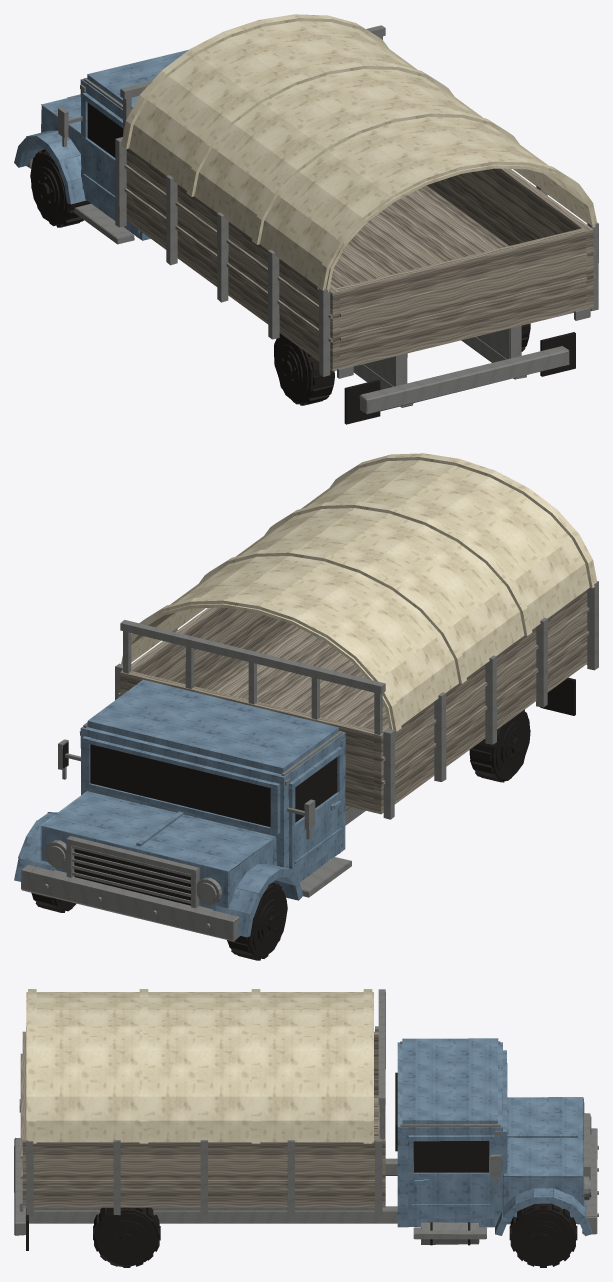
Rendered from prairie_schooner.glb.
3 views of the same model, one above another, from view 1: azimuth 30°, elevation 25°; view 2: azimuth 150°, elevation 25°; view 3: azimuth 270°, elevation 25° (orthographic). The views are drawn at different scales.
Visible parts, largest first — view 1: Cover, PrairieSchooner, Tailgate, Wheel_L2, Door_L, Wheel_L1, Glass_L; view 2: PrairieSchooner, Cover, Door_L, Wheel_L2, Wheel_L1, Glass_L; view 3: PrairieSchooner, Cover, Door_R, Wheel_R1, Wheel_R2, Glass_R, Tailgate.
Part boxes in pixels (left/top/right/bottom): Cover: left=121, top=14, right=597, bottom=292; PrairieSchooner: left=14, top=25, right=598, bottom=424; Tailgate: left=336, top=228, right=586, bottom=362; Wheel_L2: left=274, top=333, right=334, bottom=405; Door_L: left=82, top=92, right=128, bottom=222; Wheel_L1: left=30, top=149, right=90, bottom=227; Glass_L: left=87, top=103, right=122, bottom=157; PrairieSchooner: left=14, top=581, right=598, bottom=941; Cover: left=121, top=453, right=597, bottom=731; Door_L: left=288, top=746, right=342, bottom=875; Wheel_L2: left=469, top=709, right=530, bottom=782; Wheel_L1: left=227, top=882, right=287, bottom=960; Glass_L: left=295, top=757, right=337, bottom=822; PrairieSchooner: left=14, top=989, right=598, bottom=1250; Cover: left=26, top=989, right=373, bottom=1143; Door_R: left=408, top=1135, right=494, bottom=1218; Wheel_R1: left=509, top=1203, right=577, bottom=1267; Wheel_R2: left=93, top=1207, right=160, bottom=1267; Glass_R: left=408, top=1141, right=489, bottom=1172; Tailgate: left=22, top=1034, right=26, bottom=1137.
Bounding box in the file's own units: 3.2 × 2.79 × 6.86.
Materials: 5 (4 with a texture image).
